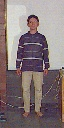person: (10, 13, 51, 121)
